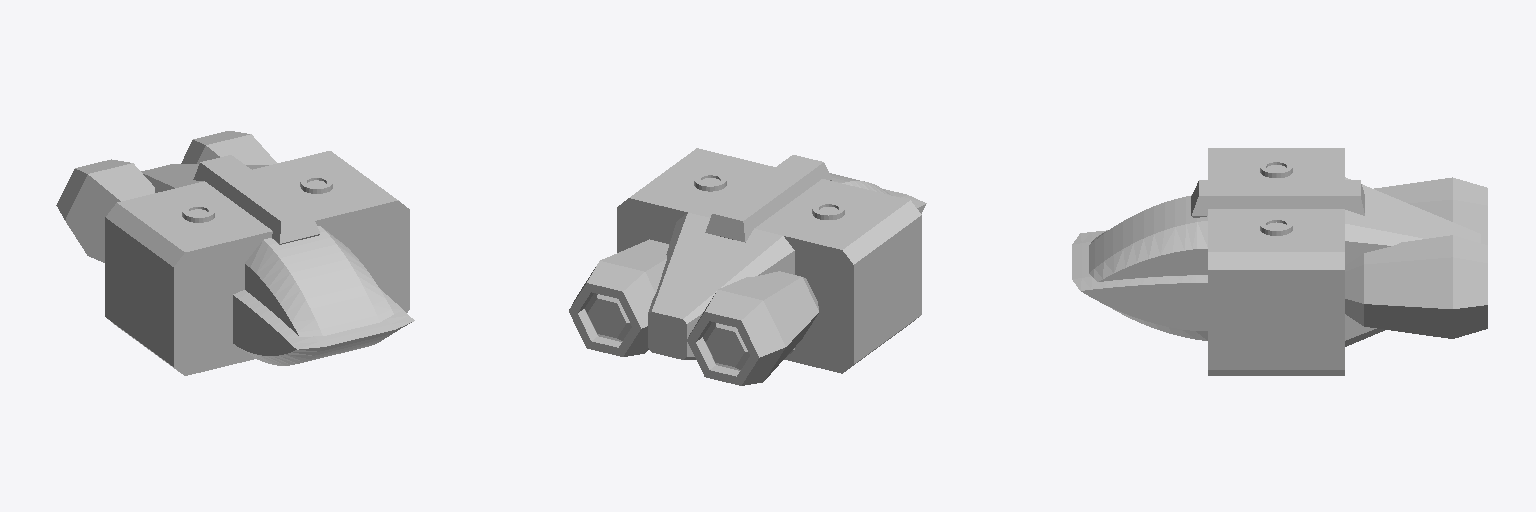
The model's file is BGFreighterX2.obj.
3 views of the same model, side by side, from view 1: azimuth 30°, elevation 25°; view 2: azimuth 150°, elevation 25°; view 3: azimuth 270°, elevation 25° (orthographic).
Size of the model in its own units: 2 by 1.1 by 3.05.